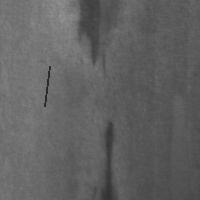inclusion: (88, 117, 125, 199), (71, 1, 108, 72), (42, 64, 51, 108)
